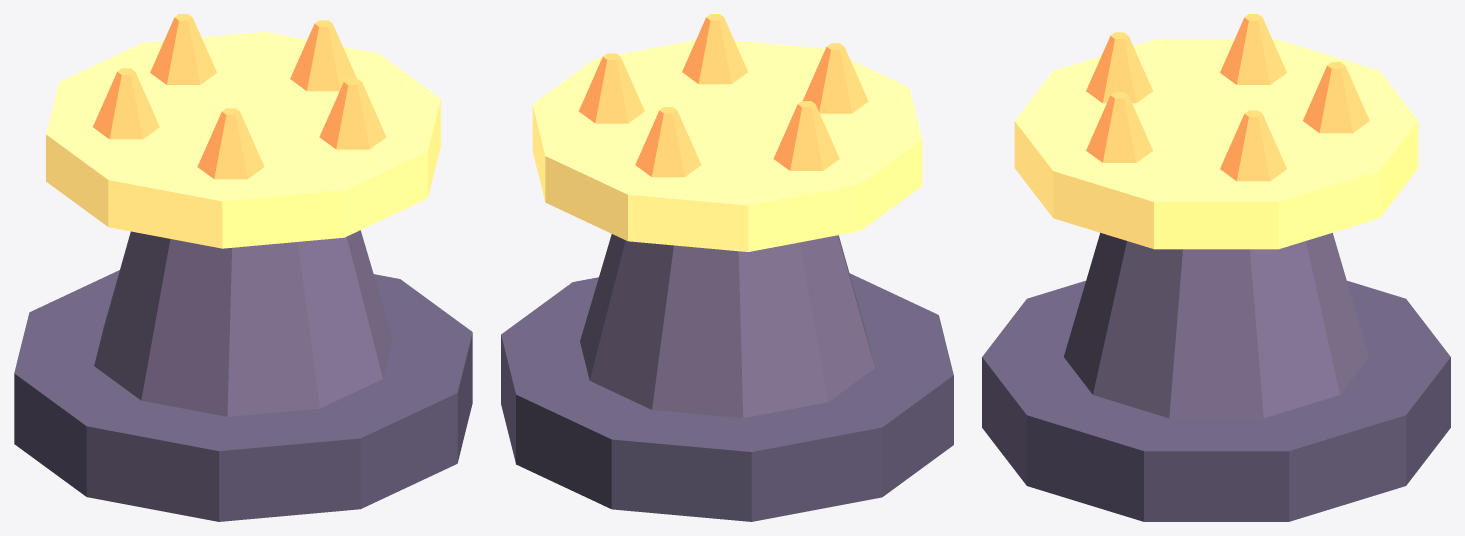
Rendered from ember_pedestal.glb.
3 views of the same model, side by side, from view 1: azimuth 30°, elevation 25°; view 2: azimuth 150°, elevation 25°; view 3: azimuth 270°, elevation 25° (orthographic).
Parts seen in each view (by area): view 1: Foot.015, Trim.016, Column, EmberPetal.003, EmberPetal.004, EmberPetal.002, EmberPetal, EmberPetal.001; view 2: Foot.015, Trim.016, Column, EmberPetal.002, EmberPetal, EmberPetal.001, EmberPetal.004, EmberPetal.003; view 3: Foot.015, Trim.016, Column, EmberPetal, EmberPetal.001, EmberPetal.002, EmberPetal.004, EmberPetal.003.
Part boxes in pixels (x1,y1,x2,y2): Foot.015: (14, 270, 472, 521); Trim.016: (46, 32, 440, 248); Column: (94, 230, 392, 416); EmberPetal.003: (197, 108, 264, 179); EmberPetal.004: (93, 68, 159, 139); EmberPetal.002: (319, 78, 386, 149); EmberPetal: (150, 14, 216, 84); EmberPetal.001: (290, 20, 356, 91); Foot.015: (501, 273, 953, 521); Trim.016: (532, 40, 922, 251); Column: (580, 234, 874, 418); EmberPetal.002: (682, 14, 747, 84); EmberPetal: (635, 107, 701, 177); EmberPetal.001: (578, 53, 644, 123); EmberPetal.004: (773, 101, 839, 170); EmberPetal.003: (802, 43, 868, 113); Foot.015: (982, 280, 1450, 521); Trim.016: (1014, 39, 1418, 249); Column: (1064, 233, 1368, 418); EmberPetal: (1303, 62, 1369, 133); EmberPetal.001: (1220, 110, 1286, 181); EmberPetal.002: (1086, 92, 1152, 162); EmberPetal.004: (1220, 14, 1286, 84); EmberPetal.003: (1086, 32, 1152, 103).
Bounding box in the file's own units: 3.42 × 3.07 × 3.6.
